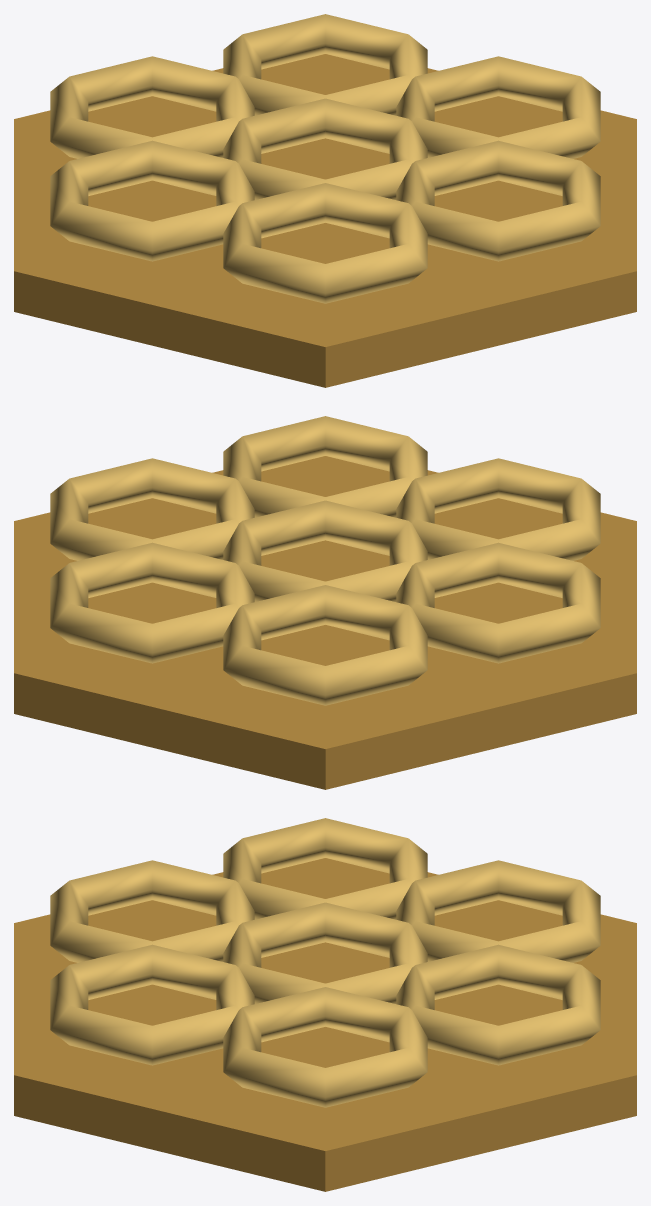
File: Mat_Wax.fbx
3 renders of one model, top to bottom at view 1: azimuth 30°, elevation 25°; view 2: azimuth 150°, elevation 25°; view 3: azimuth 270°, elevation 25°, orthographic.
Visible parts, largest first — view 1: Mat_Wax; view 2: Mat_Wax; view 3: Mat_Wax.
Boxes of the visible parts, x1,y1,x2,y2 form: Mat_Wax: (14, 14, 636, 387); Mat_Wax: (14, 416, 636, 789); Mat_Wax: (14, 818, 636, 1191).
Bounding box in the file's own units: 72 × 10.7 × 62.35.
